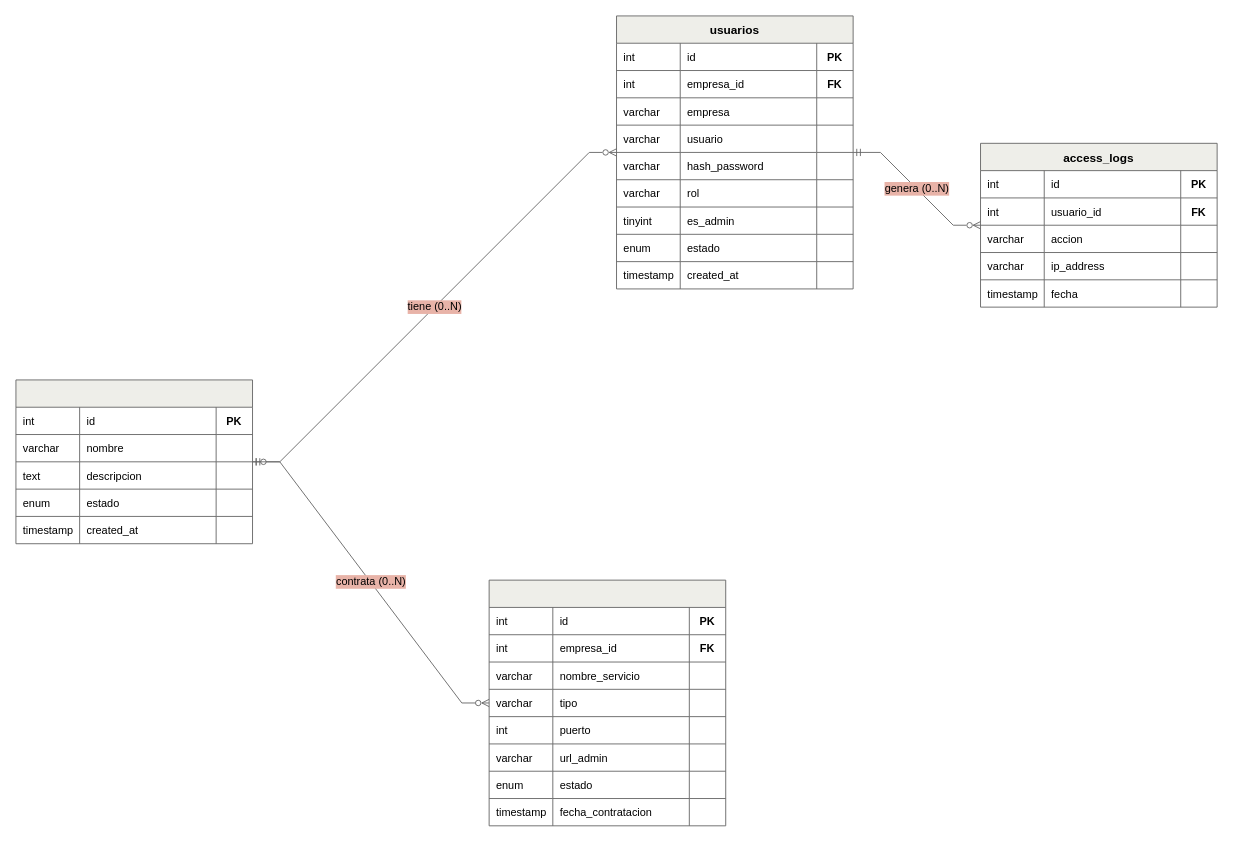
This 1233x842 diagram has some shape labels left out. Each missing label, with the box of its shape:
empresas: (15, 379, 253, 544)
servicios_contratados: (488, 579, 726, 826)
